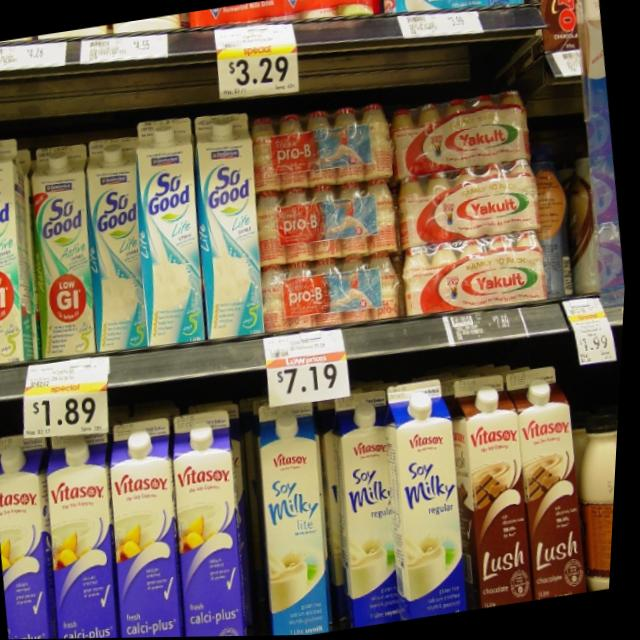q262: (186, 134, 275, 340), (79, 149, 164, 348), (137, 147, 217, 349)
